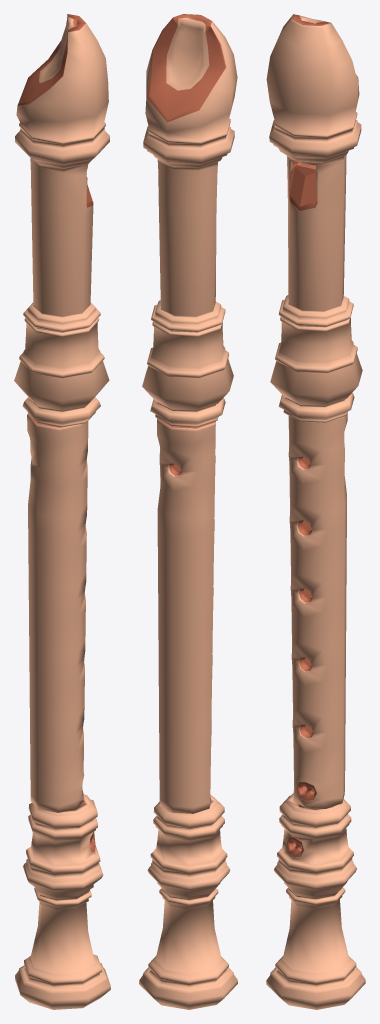
File: recorder.fbx
The picture shows the model from 3 angles, left to right: view 1: azimuth 90°, elevation 25°; view 2: azimuth 150°, elevation 25°; view 3: azimuth 330°, elevation 25°; orthographic projection.
Parts seen in each view (by area): view 1: Recorder.Top, Recorder.Middle, Recorder.Bottom; view 2: Recorder.Top, Recorder.Middle, Recorder.Bottom; view 3: Recorder.Top, Recorder.Middle, Recorder.Bottom.
Boxes of the visible parts, bbox=[...] form: Recorder.Top: bbox=[14, 14, 109, 427]; Recorder.Middle: bbox=[27, 413, 88, 812]; Recorder.Bottom: bbox=[15, 794, 110, 1009]; Recorder.Top: bbox=[142, 14, 237, 427]; Recorder.Middle: bbox=[157, 418, 215, 813]; Recorder.Bottom: bbox=[139, 794, 237, 1009]; Recorder.Top: bbox=[266, 14, 362, 422]; Recorder.Middle: bbox=[288, 412, 347, 809]; Recorder.Bottom: bbox=[266, 793, 365, 1009].
Bounding box in the file's own units: 30.43 × 331 × 29.95.
